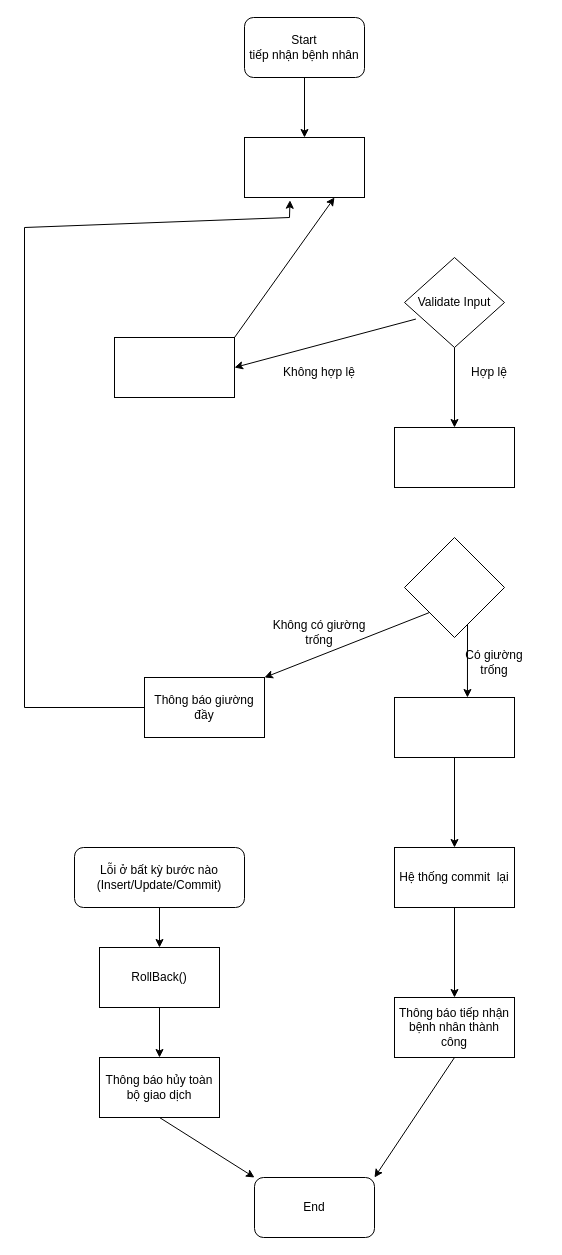
Image size: 562x1255. Some labels were removed from this diagram. Each missing label, with the centre of its shape:
Check giường trống: [454,587]
Mở DB setautoCommit(false): [454,457]
Nhập thông tin bệnh nhân: [304,167]
Thông báo lỗi yêu cầu nhập lại: [174,367]
Thức hiện các thao tác: [454,727]
